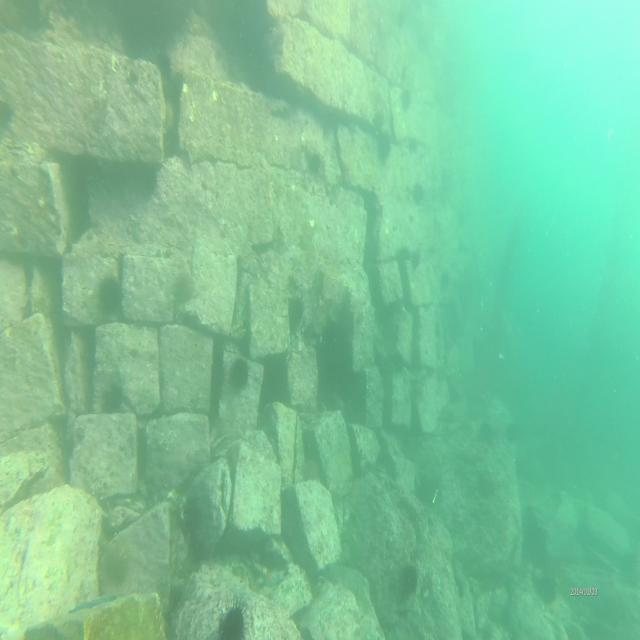echinus: (102, 543, 138, 591), (216, 594, 250, 640), (95, 272, 127, 320), (394, 558, 422, 606), (98, 372, 128, 415), (170, 270, 199, 311), (284, 293, 304, 340), (228, 354, 250, 393), (503, 415, 522, 454), (538, 573, 560, 606), (306, 144, 324, 184), (184, 499, 202, 539), (0, 94, 16, 137), (477, 415, 494, 448), (411, 175, 425, 211), (378, 132, 392, 167), (408, 245, 424, 273), (399, 88, 414, 116), (438, 266, 454, 292), (372, 104, 386, 132), (406, 132, 419, 156)
starfish: (258, 562, 280, 590)
